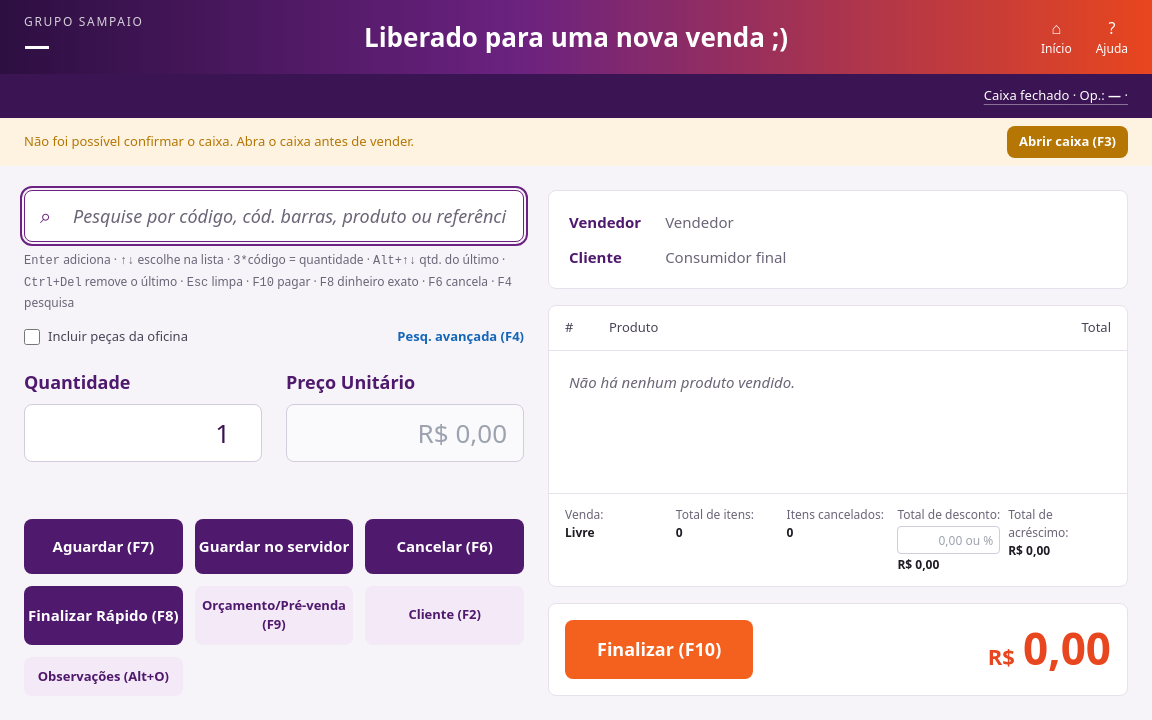
Scenario: o cliente escolhido depois dos itens › tirar o cliente devolve o preço cheio — o desconto vai embora com ele
Type "7890000001111" into the field labelled "Pesquise por código, cód. barras, produto ou referência" at [274, 216], box [24,190,524,242]
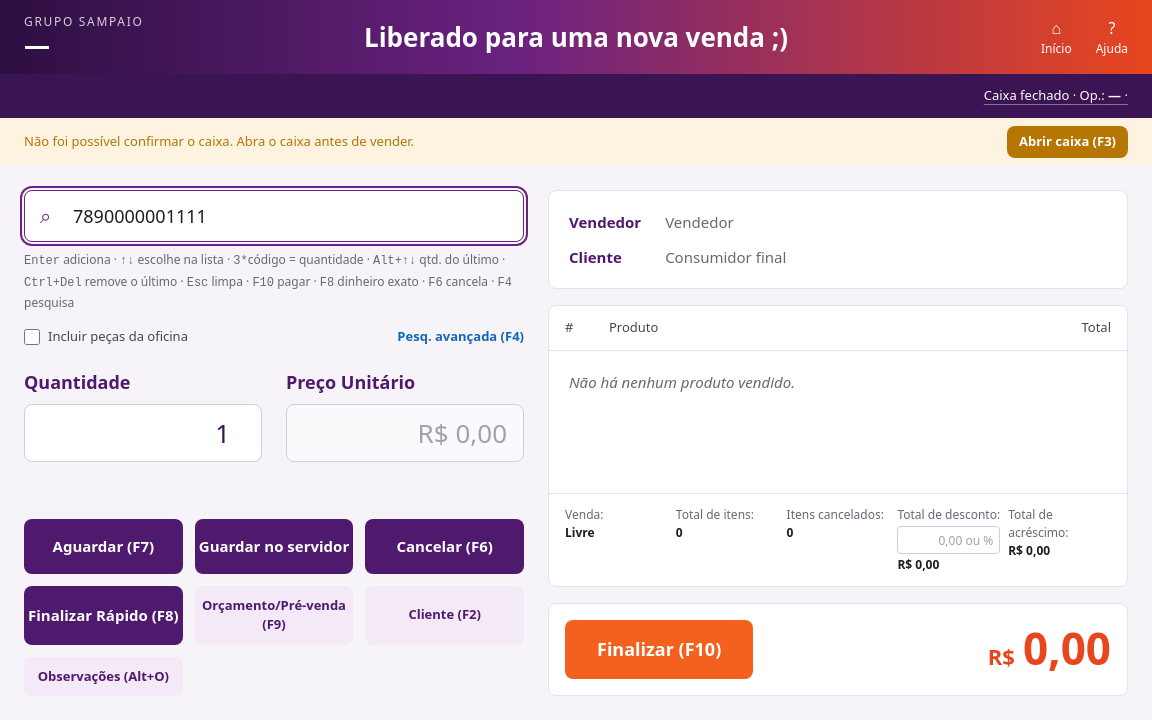
Press Enter in the field named "Pesquise por código", box [24,190,524,242]
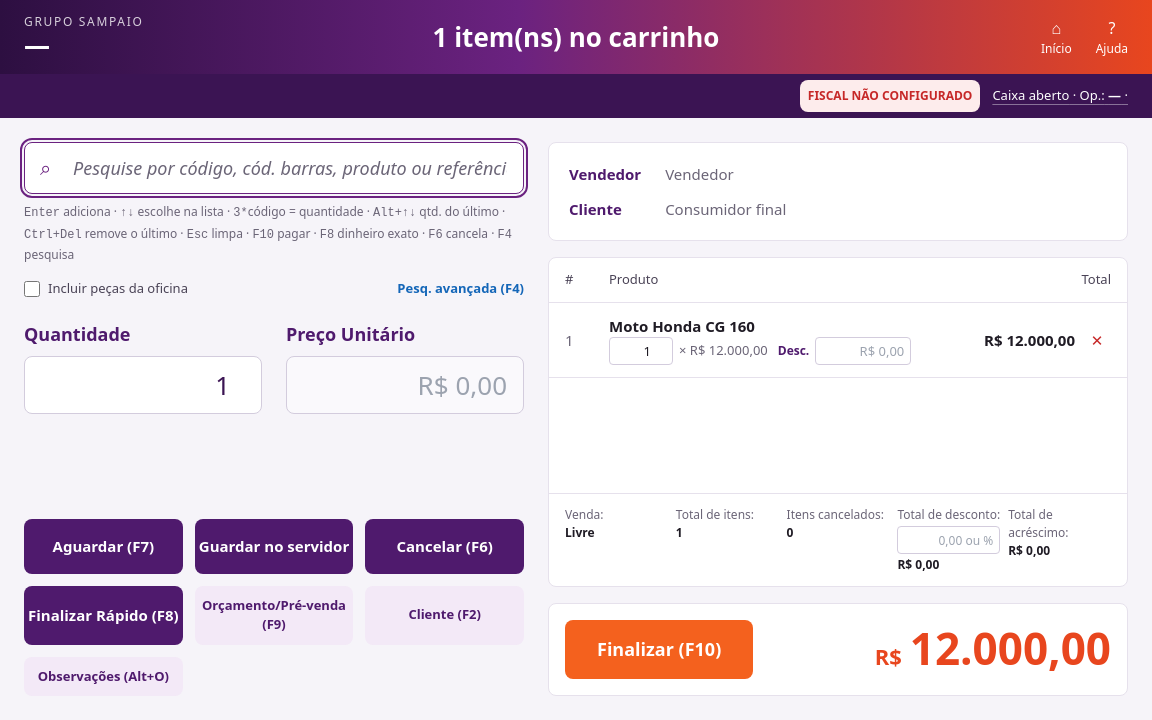
expect the button named "Remover " is shown: met, box [1083,324,1111,356]
Click the button "Cliente (F2)" at [445, 615], box [365,586,524,644]
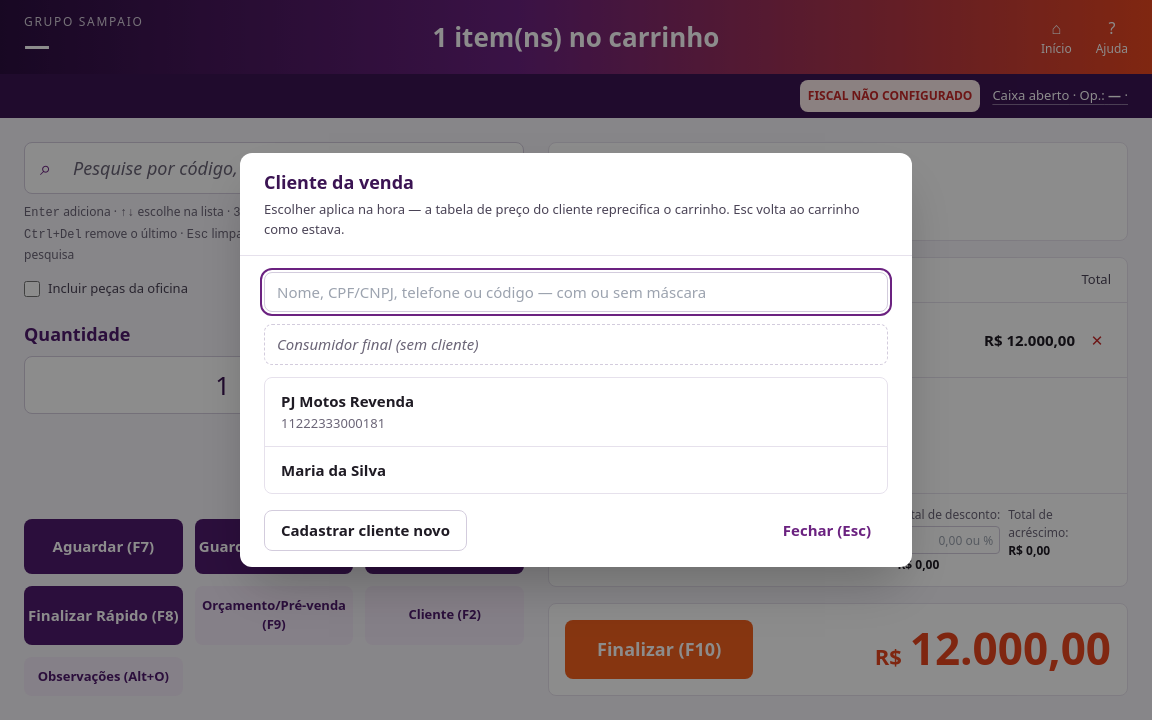
Click the button "PJ Motos Revenda 11222333000181" at [348, 401], box [265,378,887,446]
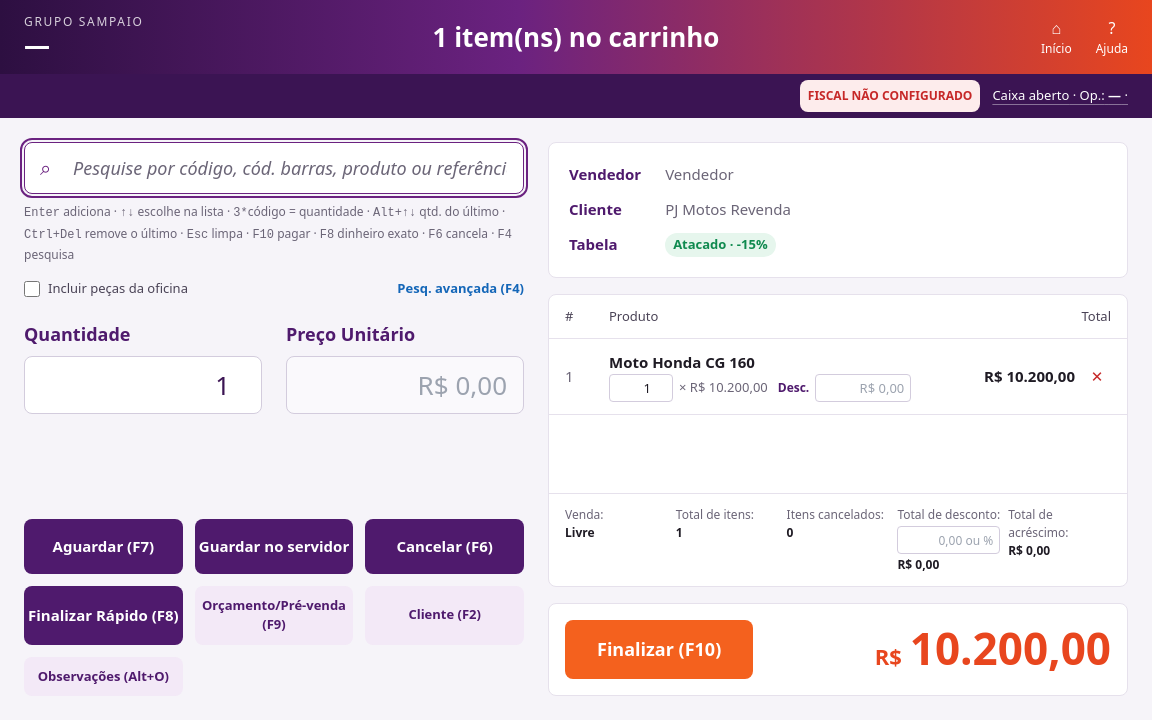
Click the button "Cliente (F2)" at [445, 615], box [365,586,524,644]
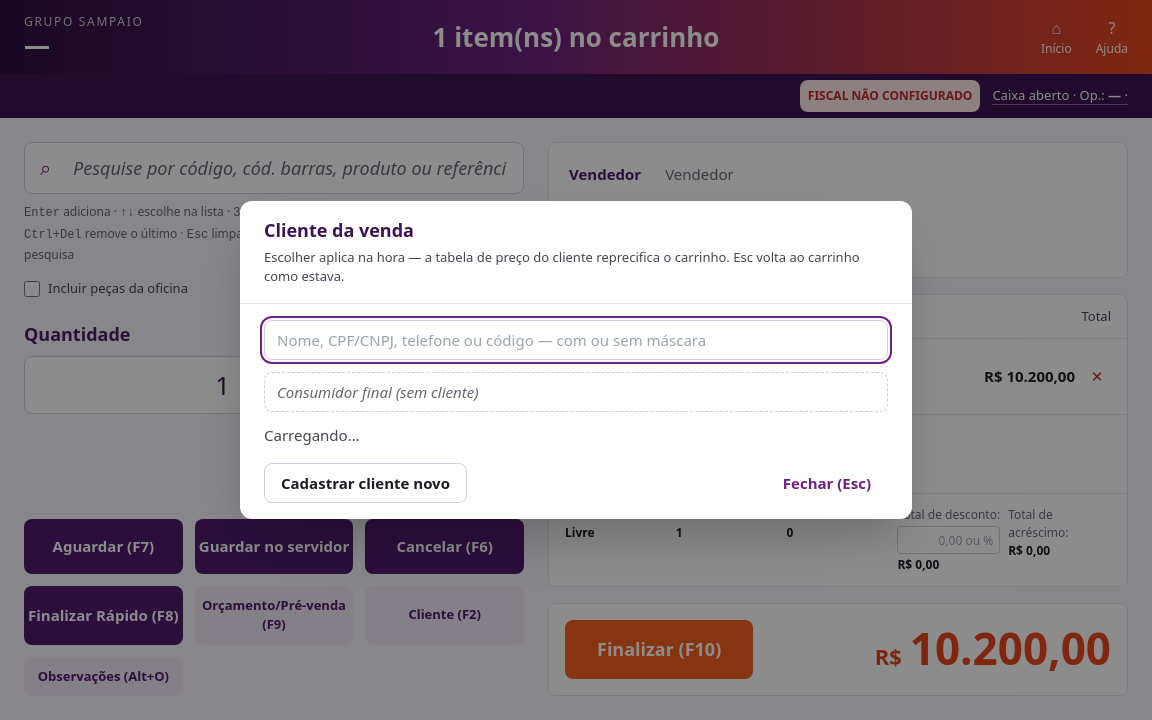
Click the button "Consumidor final (sem cliente)" at [378, 392], box [264,372,888,412]
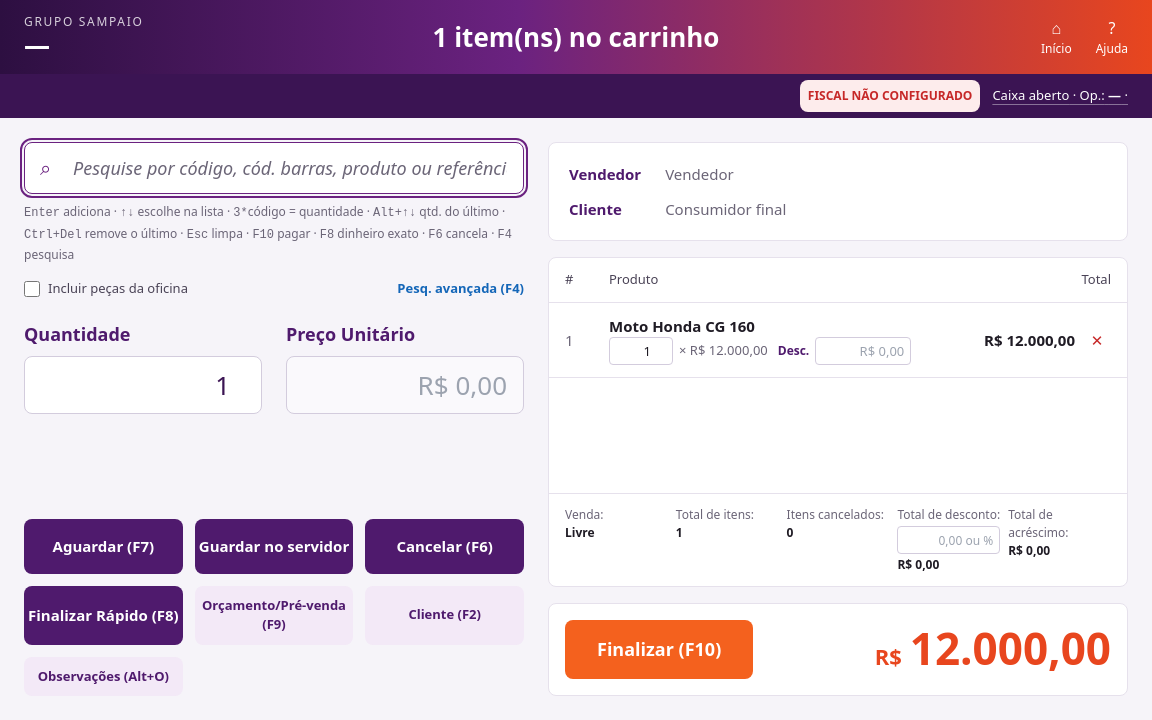
expect the element with test id "pdv-tabela-do-cliente" is gone: met
